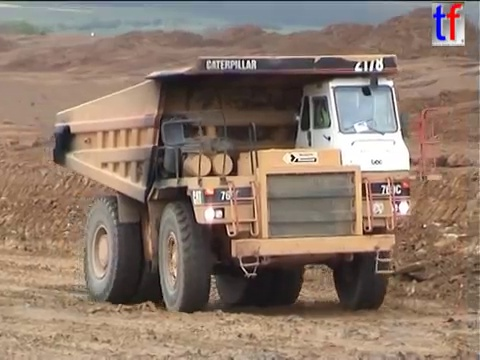truck: (50, 51, 443, 314)
